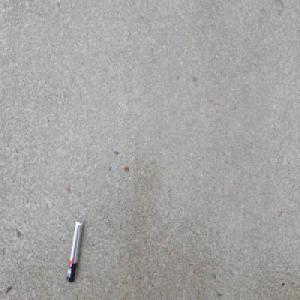Battery: (65, 216, 83, 282)
